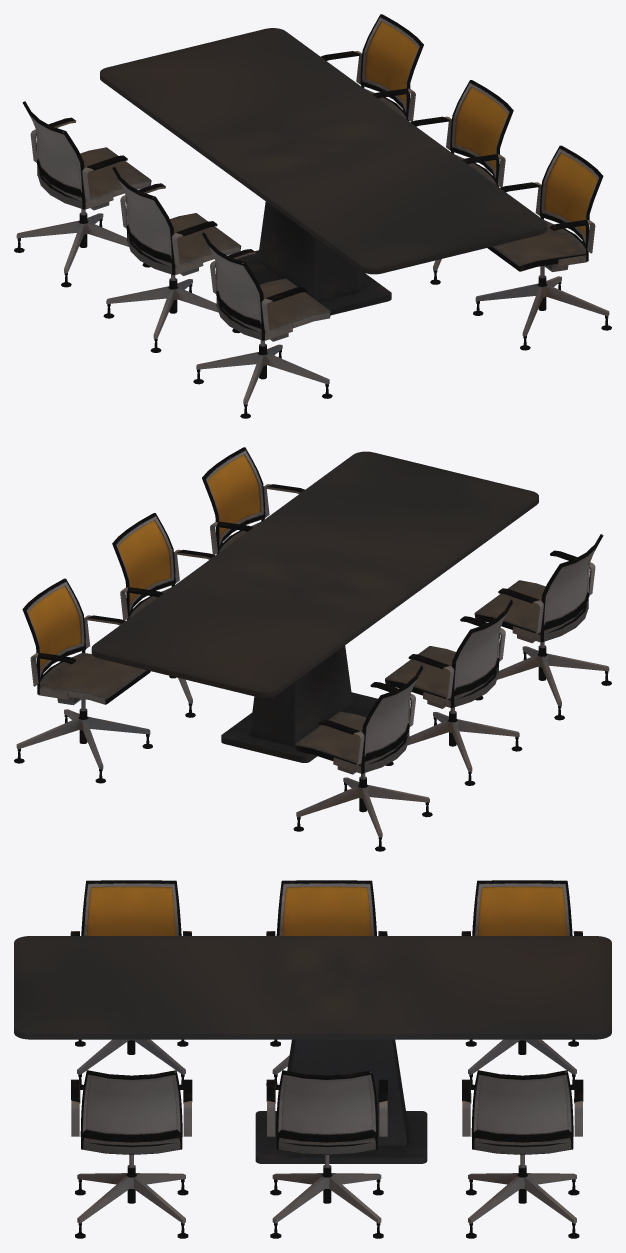
File: con_meeting_4.glb
3 renders of one model, top to bottom at view 1: azimuth 30°, elevation 25°; view 2: azimuth 150°, elevation 25°; view 3: azimuth 270°, elevation 25°, orthographic. The views are drawn at different scales.
Visible parts, largest first — view 1: bureau_sol__baked_meeting_sol__0, bureau_sol__baked_meeting_sol__0.005, bureau_sol__baked_meeting_sol__0.008, bureau_sol__baked_meeting_sol__0.009, bureau_sol__baked_meeting_sol__0.010, bureau_sol__baked_meeting_sol__0.004, bureau_sol__baked_meeting_sol__0.003; view 2: bureau_sol__baked_meeting_sol__0, bureau_sol__baked_meeting_sol__0.003, bureau_sol__baked_meeting_sol__0.010, bureau_sol__baked_meeting_sol__0.008, bureau_sol__baked_meeting_sol__0.009, bureau_sol__baked_meeting_sol__0.004, bureau_sol__baked_meeting_sol__0.005; view 3: bureau_sol__baked_meeting_sol__0, bureau_sol__baked_meeting_sol__0.004, bureau_sol__baked_meeting_sol__0.003, bureau_sol__baked_meeting_sol__0.005, bureau_sol__baked_meeting_sol__0.010, bureau_sol__baked_meeting_sol__0.008, bureau_sol__baked_meeting_sol__0.009.
Boxes of the visible parts, bbox=[...] form: bureau_sol__baked_meeting_sol__0: bbox=[100, 28, 547, 315]; bureau_sol__baked_meeting_sol__0.005: bbox=[473, 145, 611, 350]; bureau_sol__baked_meeting_sol__0.008: bbox=[193, 232, 332, 418]; bureau_sol__baked_meeting_sol__0.009: bbox=[103, 167, 241, 352]; bureau_sol__baked_meeting_sol__0.010: bbox=[14, 101, 151, 287]; bureau_sol__baked_meeting_sol__0.004: bbox=[410, 80, 513, 284]; bureau_sol__baked_meeting_sol__0.003: bbox=[321, 14, 423, 121]; bureau_sol__baked_meeting_sol__0: bbox=[91, 451, 538, 762]; bureau_sol__baked_meeting_sol__0.003: bbox=[14, 578, 152, 783]; bureau_sol__baked_meeting_sol__0.010: bbox=[293, 665, 432, 851]; bureau_sol__baked_meeting_sol__0.008: bbox=[474, 534, 611, 720]; bureau_sol__baked_meeting_sol__0.009: bbox=[385, 599, 522, 785]; bureau_sol__baked_meeting_sol__0.004: bbox=[112, 513, 215, 717]; bureau_sol__baked_meeting_sol__0.005: bbox=[202, 447, 304, 554]; bureau_sol__baked_meeting_sol__0: bbox=[14, 936, 611, 1163]; bureau_sol__baked_meeting_sol__0.004: bbox=[266, 1070, 387, 1238]; bureau_sol__baked_meeting_sol__0.003: bbox=[462, 1070, 583, 1238]; bureau_sol__baked_meeting_sol__0.005: bbox=[71, 1070, 192, 1238]; bureau_sol__baked_meeting_sol__0.010: bbox=[461, 880, 582, 1089]; bureau_sol__baked_meeting_sol__0.008: bbox=[70, 880, 191, 1089]; bureau_sol__baked_meeting_sol__0.009: bbox=[266, 880, 387, 1089].
Bounding box in the file's own units: 2.26 × 0.8813 × 2.9.
Materials: 1 (1 with a texture image).
